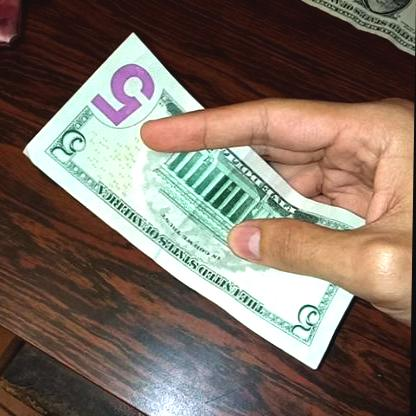five-back: (17, 29, 389, 371)
